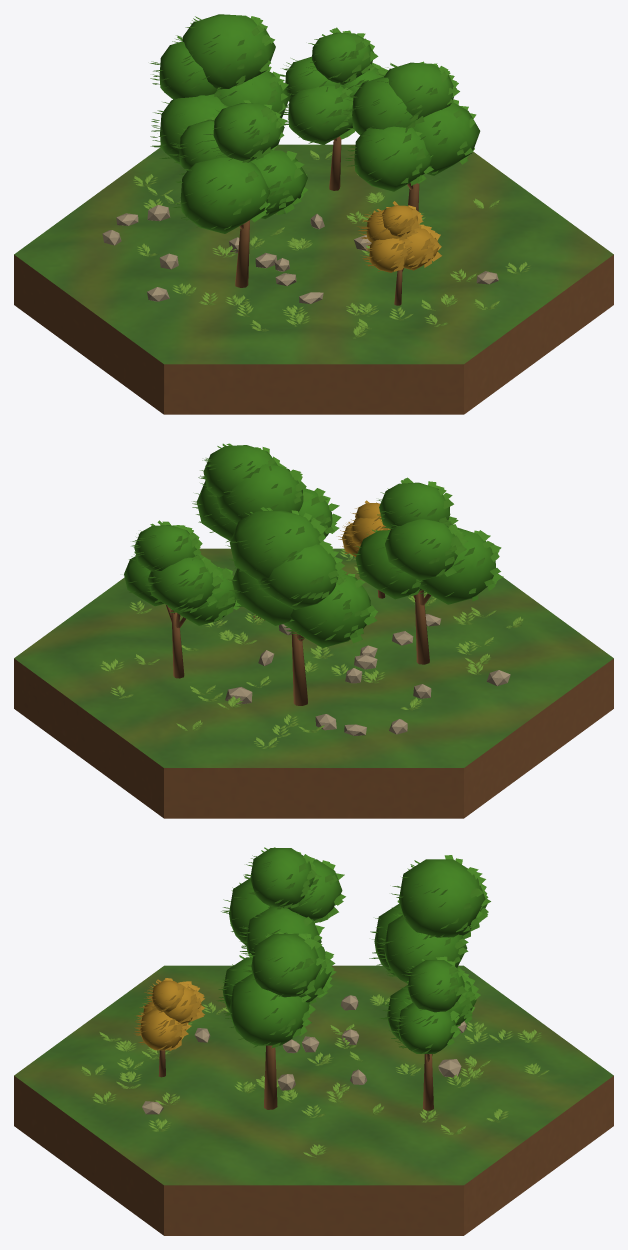
The model's file is SM_BosqueNatural_A_Detalle_LOD0.fbx.
The picture shows the model from 3 angles, top to bottom: view 1: azimuth 30°, elevation 25°; view 2: azimuth 150°, elevation 25°; view 3: azimuth 270°, elevation 25°; orthographic projection.
Parts seen in each view (by area): view 1: SM_BosqueNatural_A_Detalle_LOD0; view 2: SM_BosqueNatural_A_Detalle_LOD0; view 3: SM_BosqueNatural_A_Detalle_LOD0.
Part boxes in pixels (bbox=[...]): SM_BosqueNatural_A_Detalle_LOD0: bbox=[14, 14, 613, 414]; SM_BosqueNatural_A_Detalle_LOD0: bbox=[14, 443, 613, 818]; SM_BosqueNatural_A_Detalle_LOD0: bbox=[14, 847, 613, 1235].
Bounding box in the file's own units: 1.68 × 0.8907 × 1.94.
1 material, 1 textured.
